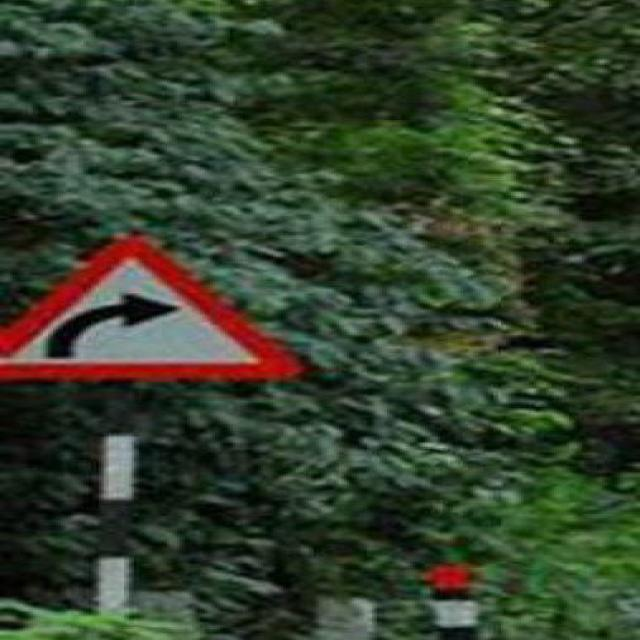Righthand_curve: (0, 234, 288, 380)
